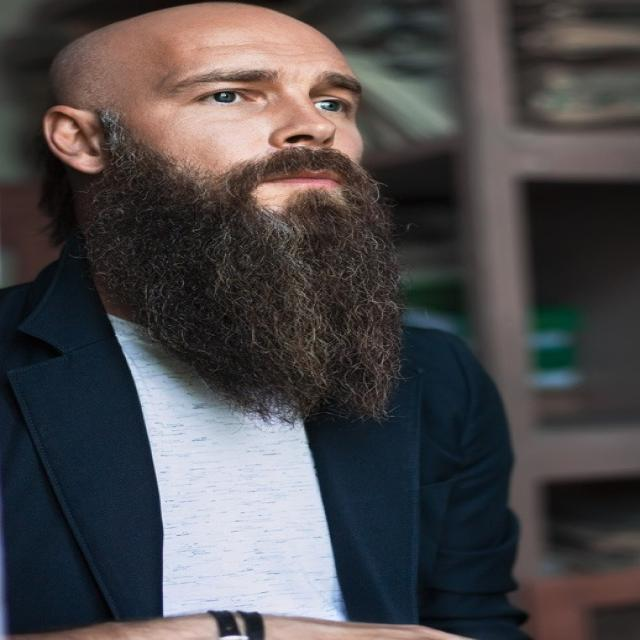beard: (40, 111, 403, 420)
